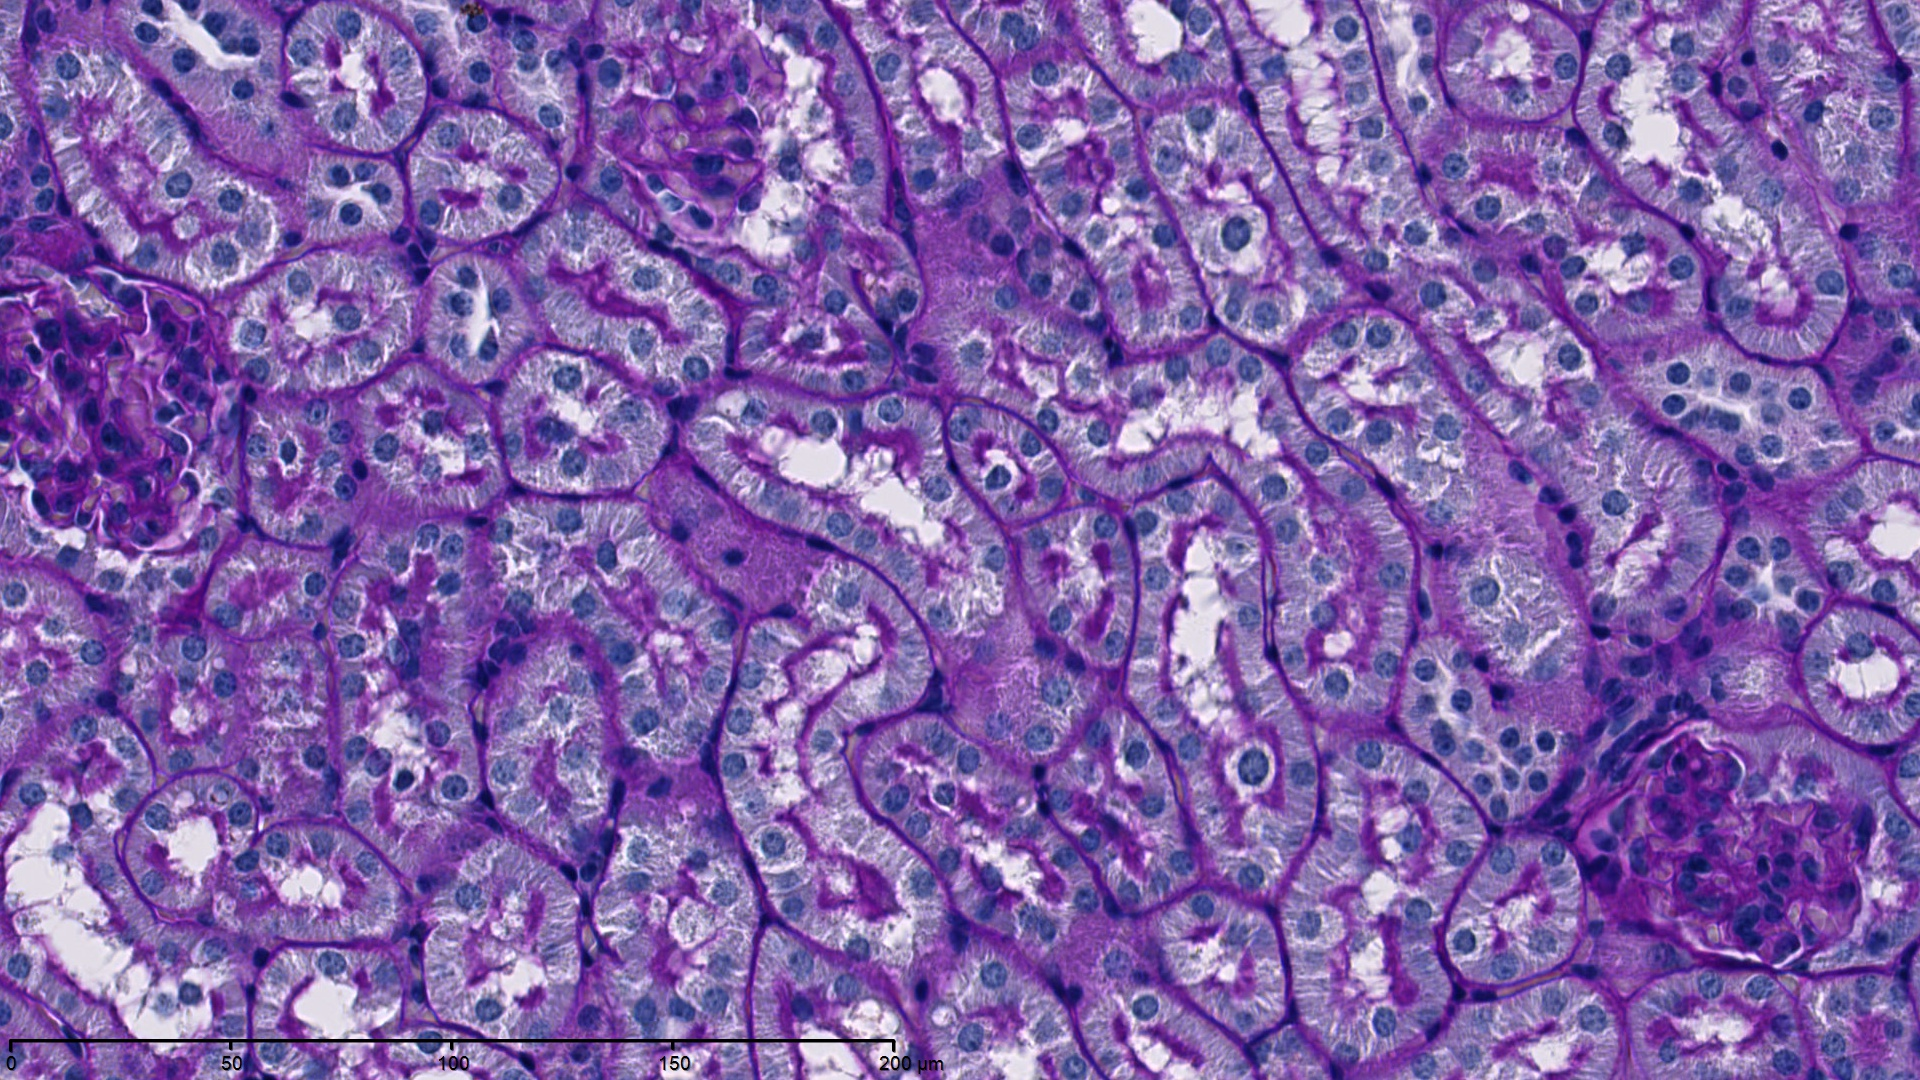Glomeruli: (1, 289, 265, 568), (1575, 727, 1887, 961)
